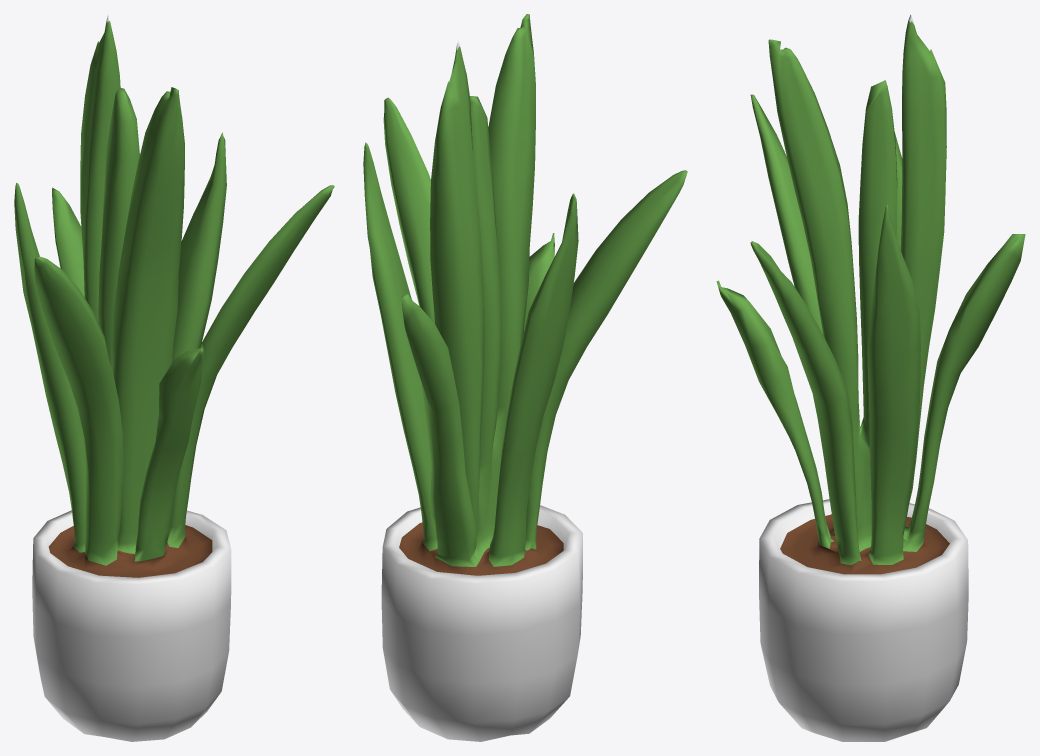
File: Planta1.fbx
The picture shows the model from 3 angles, left to right: view 1: azimuth 30°, elevation 25°; view 2: azimuth 150°, elevation 25°; view 3: azimuth 270°, elevation 25°; orthographic projection. The views are drawn at different scales.
Parts seen in each view (by area): view 1: Planta1; view 2: Planta1; view 3: Planta1.
Boxes of the visible parts, x1,y1,x2,y2 form: Planta1: [14, 14, 334, 741]; Planta1: [363, 14, 687, 741]; Planta1: [716, 14, 1025, 741].
Bounding box in the file's own units: 60.43 × 133 × 52.73.
